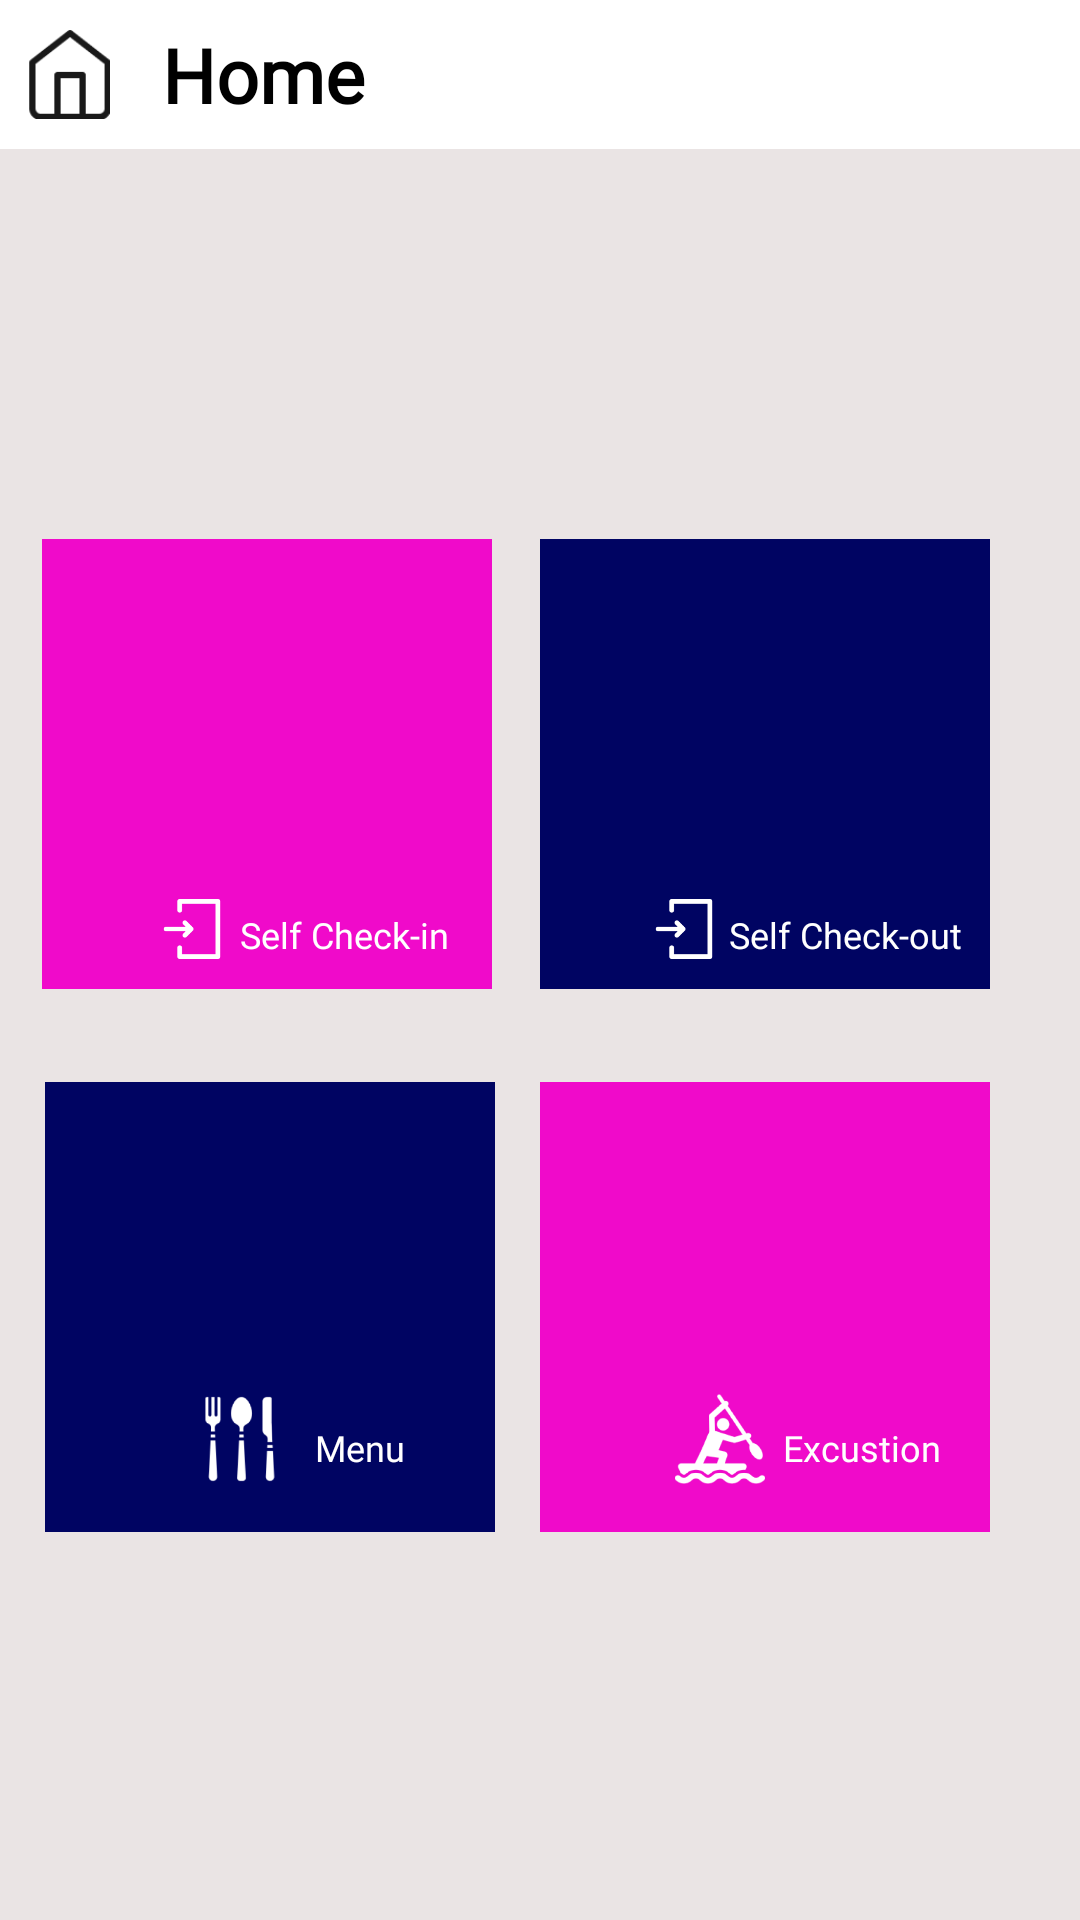

Where icons sit on this 1080x1920 app screen, as bbox=[x1, y1, x2, y2]:
cutlery: bbox=[205, 1397, 275, 1481]
kayak: bbox=[675, 1394, 765, 1484]
